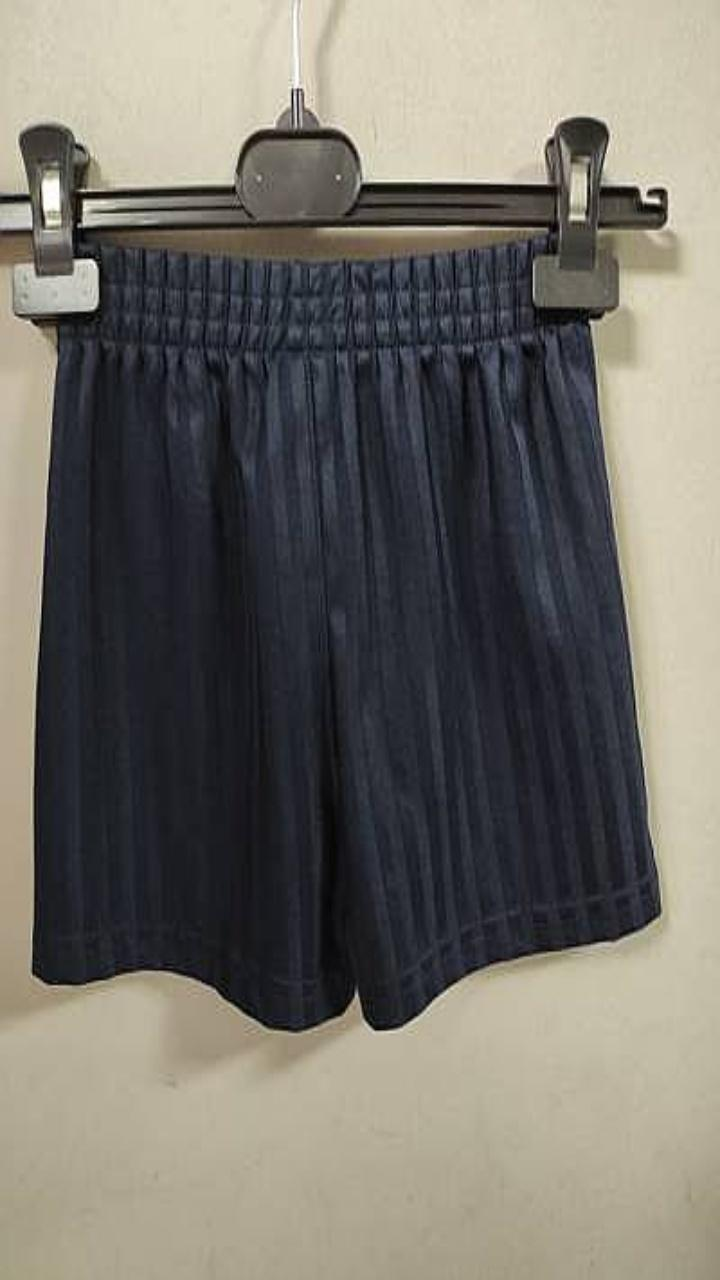Shorts: (32, 231, 660, 1030)
